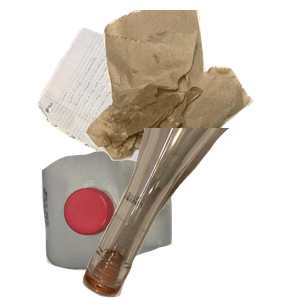glass: (80, 128, 300, 300)
paper: (35, 25, 232, 204)
plastic: (39, 149, 203, 300)
trash: (83, 10, 300, 163)
